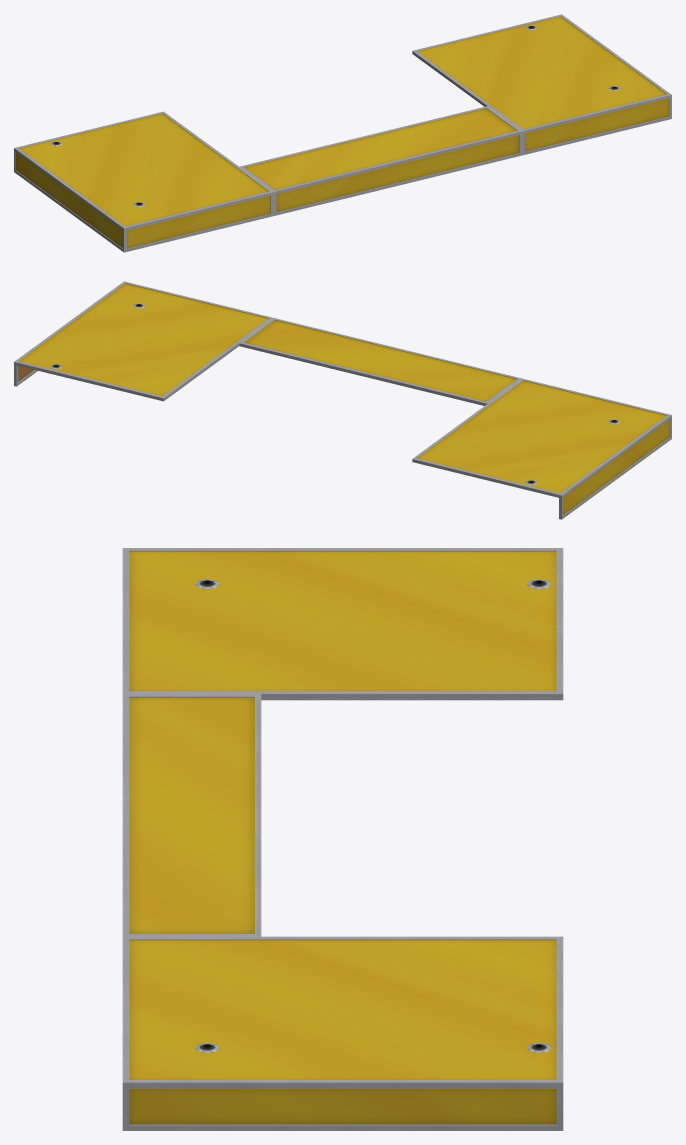
Rendered from jsf_4P_s03_c03_t03_DX.fbx.
3 views of the same model, one above another, from view 1: azimuth 30°, elevation 25°; view 2: azimuth 150°, elevation 25°; view 3: azimuth 270°, elevation 25° (orthographic). The views are drawn at different scales.
Parts seen in each view (by area): view 1: jsf_4P_s03_c03_t03_DX; view 2: jsf_4P_s03_c03_t03_DX; view 3: jsf_4P_s03_c03_t03_DX.
Part boxes in pixels (bbox=[...]): jsf_4P_s03_c03_t03_DX: bbox=[14, 14, 671, 252]; jsf_4P_s03_c03_t03_DX: bbox=[14, 281, 671, 519]; jsf_4P_s03_c03_t03_DX: bbox=[122, 548, 563, 1130].
Bounding box in the file's own units: 298 × 12.99 × 104.
